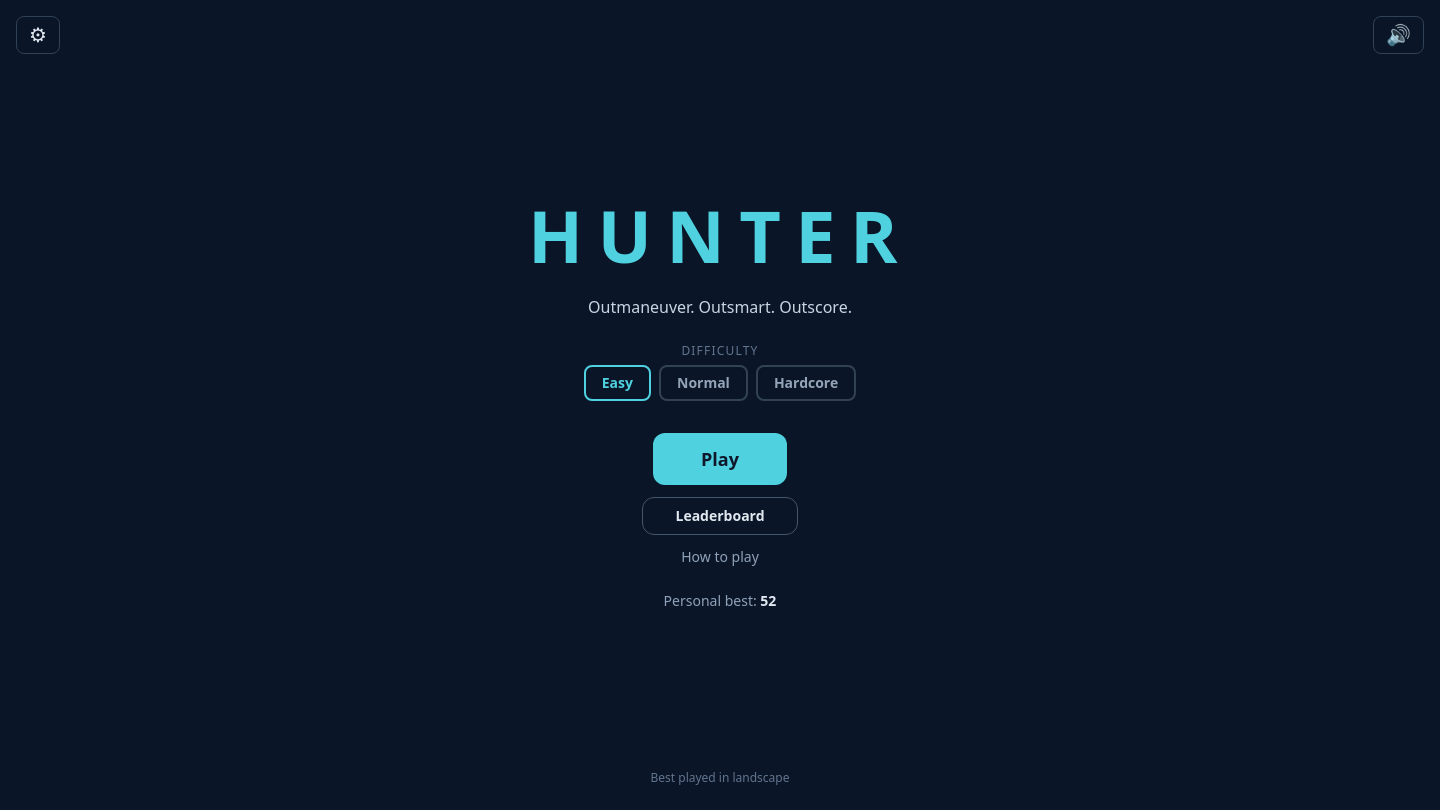
it: App — endGame() difficulty (Session 22 Bug 1) › uses the difficulty actually played, not the one active on the first render
This screenshot has width=1440, height=810.
What coordinates should you click on to do the following:
click the button "Hardcore"
I would click on:
 (806, 383)
Its box is top-left (756, 365), bottom-right (856, 401).
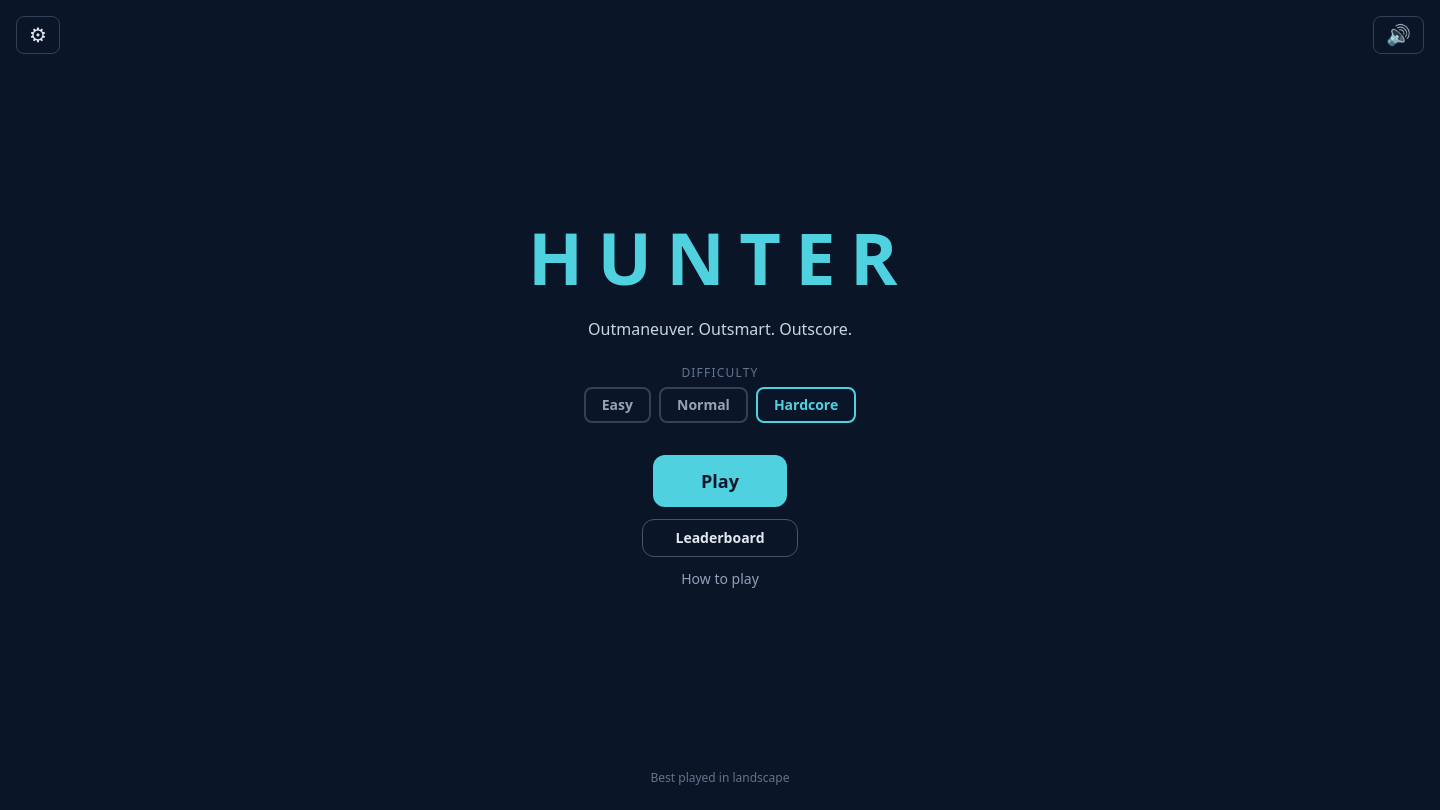
What coordinates should you click on to do the following:
click the button "Play"
I would click on:
 (720, 481)
Its box is top-left (653, 455), bottom-right (787, 507).
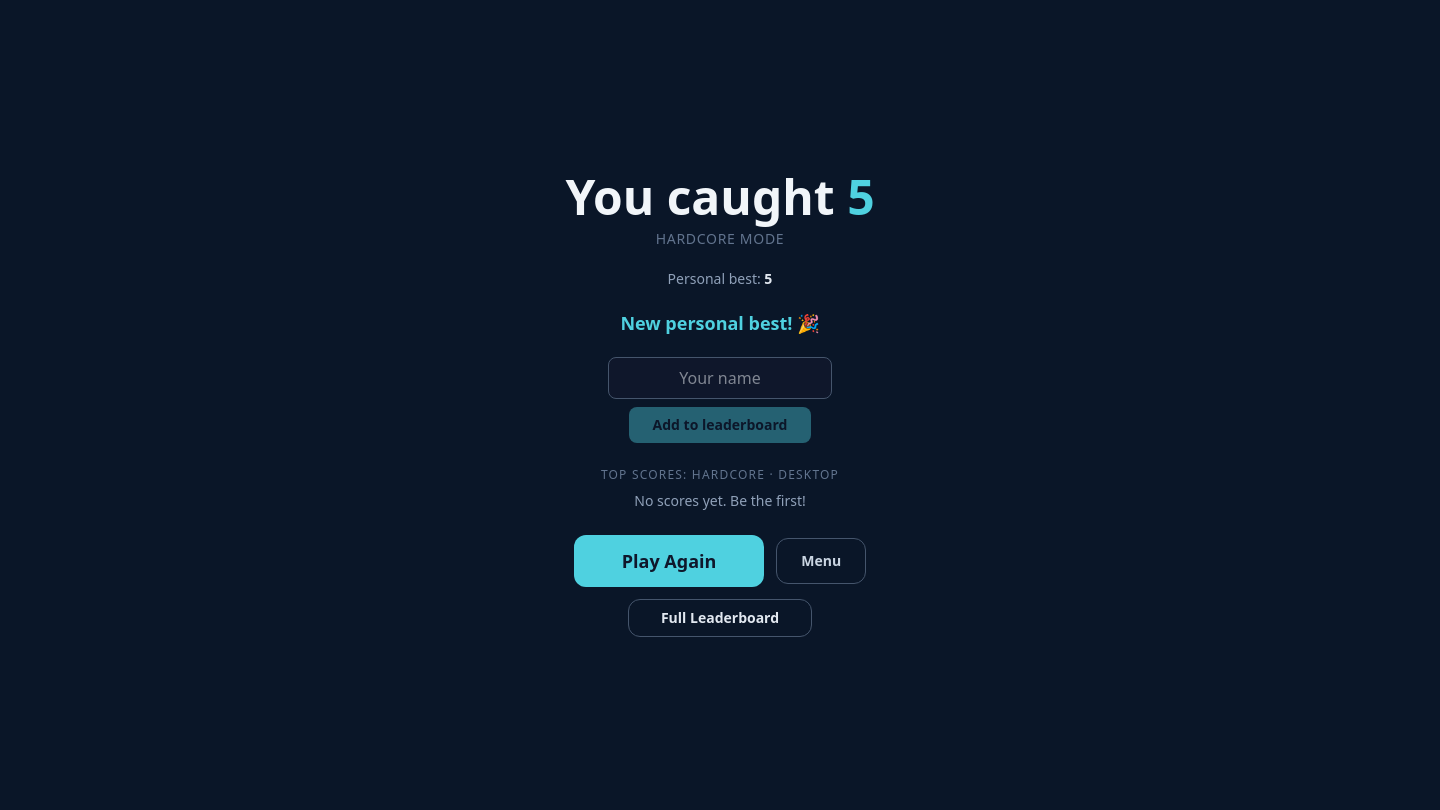
Check: the text "personal best:" does not show "52"
Check: the text "Personal best: 5" is shown, box top-left (668, 269), bottom-right (772, 289)
